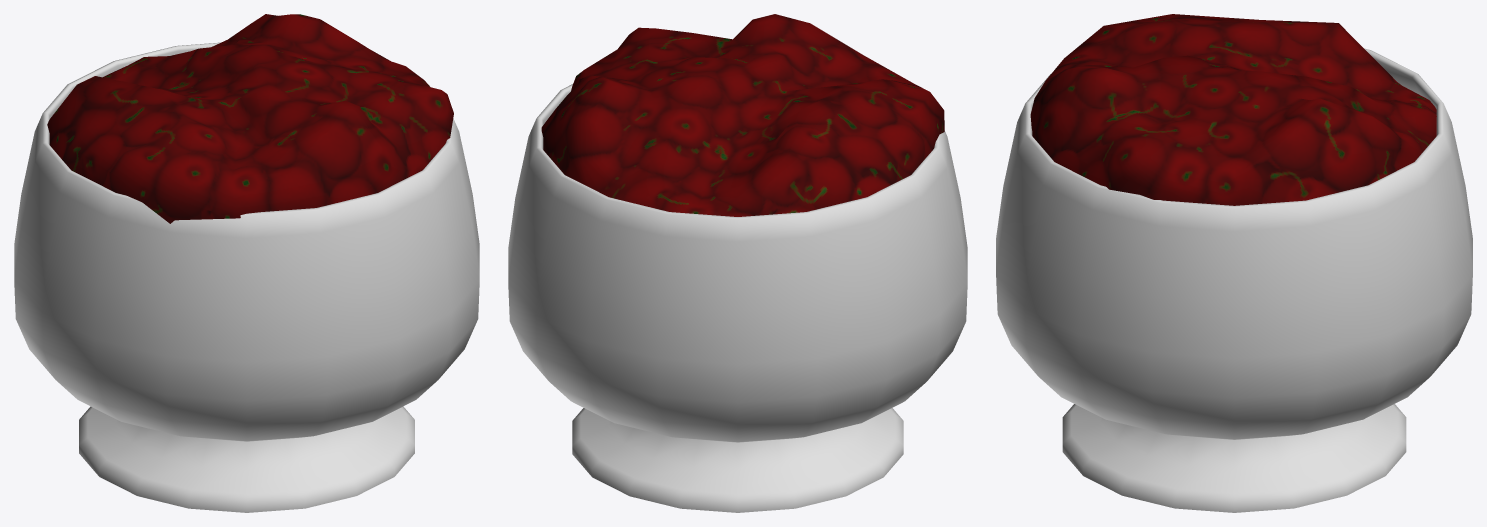
Rendered from BuffetBerries02_2.FBX.
3 views of the same model, side by side, from view 1: azimuth 30°, elevation 25°; view 2: azimuth 150°, elevation 25°; view 3: azimuth 270°, elevation 25° (orthographic). The views are drawn at different scales.
Parts seen in each view (by area): view 1: BuffetBerries02_2; view 2: BuffetBerries02_2; view 3: BuffetBerries02_2.
Part boxes in pixels (box(x1,y1,x2,y2)): BuffetBerries02_2: box(14, 14, 479, 512); BuffetBerries02_2: box(508, 14, 967, 512); BuffetBerries02_2: box(996, 14, 1472, 512).
Size of what is drawn, in the model's own units: 0.2618 by 0.229 by 0.2578.
